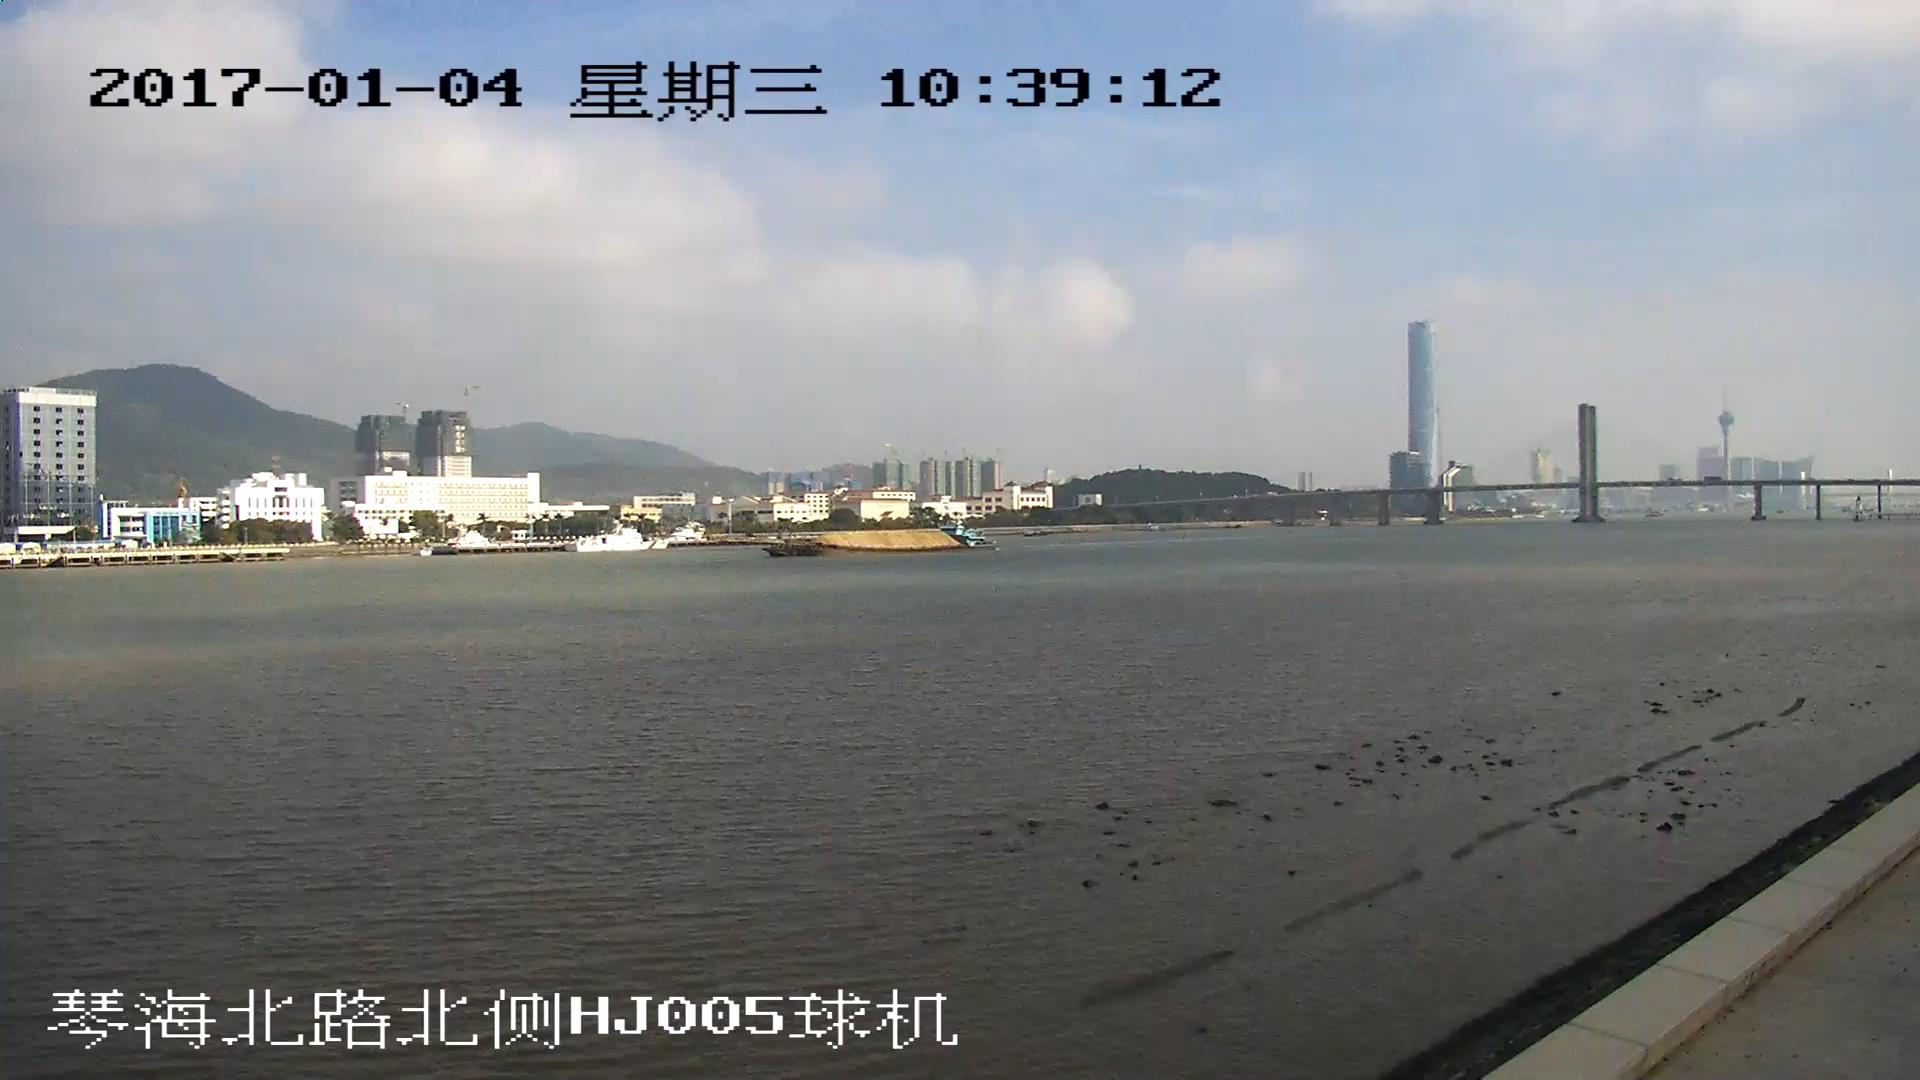ore carrier: (769, 531, 991, 555)
